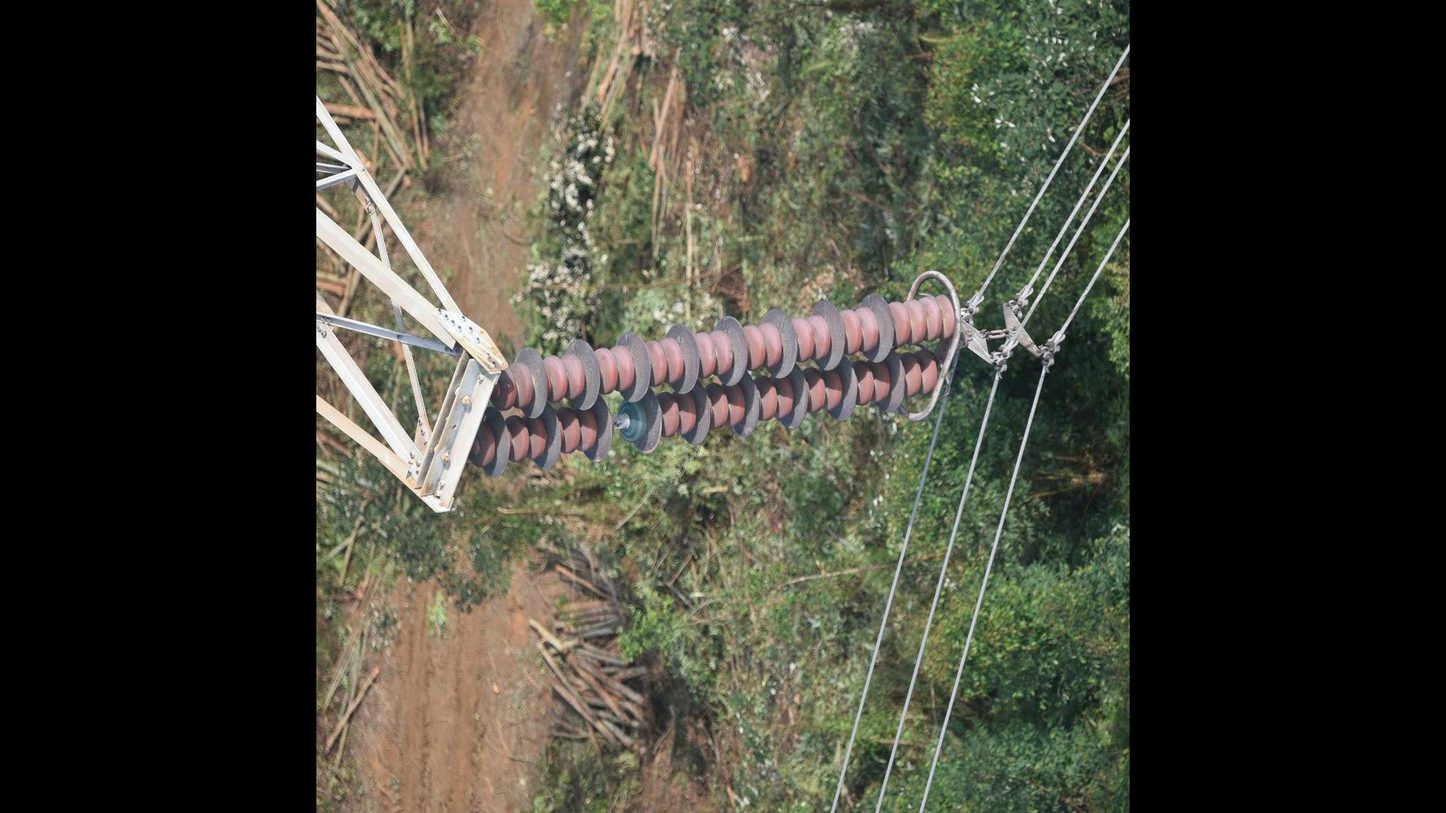insulator: (463, 290, 958, 478)
insulator_stringdrop: (593, 399, 648, 455)
